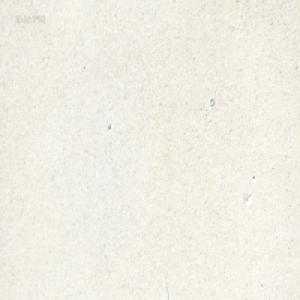Washer: (209, 96, 215, 107)
